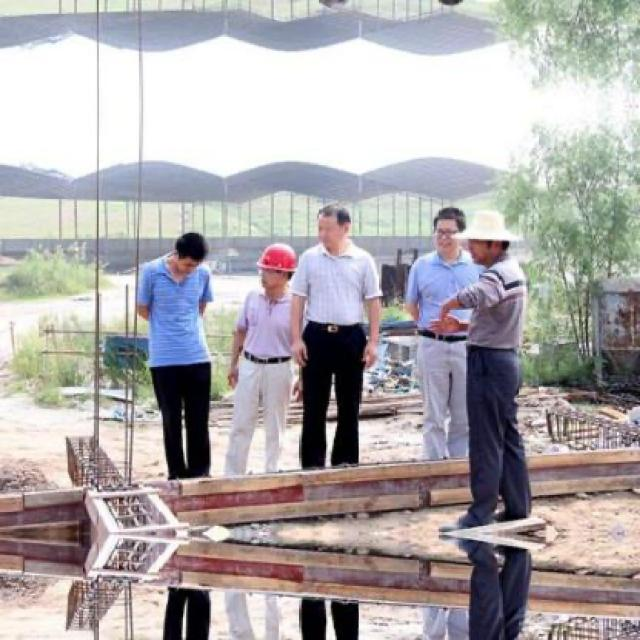con casco: (440, 209, 528, 302), (251, 235, 328, 312)
sin casco: (118, 219, 234, 292), (281, 190, 353, 257), (420, 201, 472, 277)
